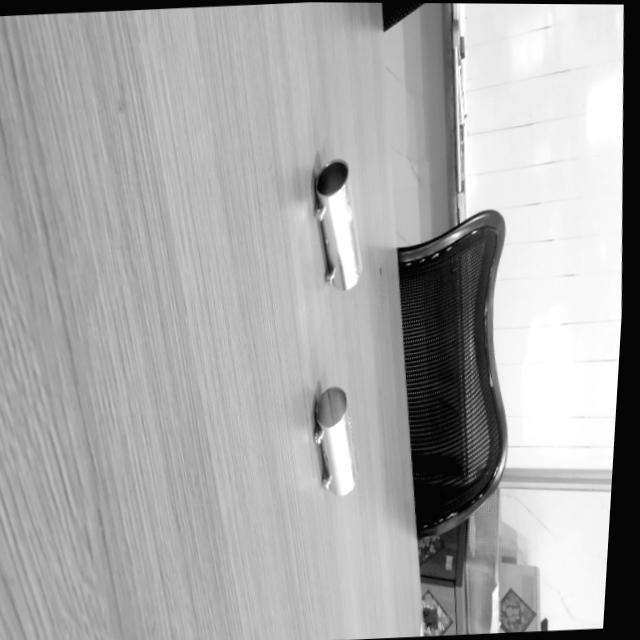Co_Lon: (308, 158, 364, 293)
Co_Nho: (307, 386, 360, 498)
